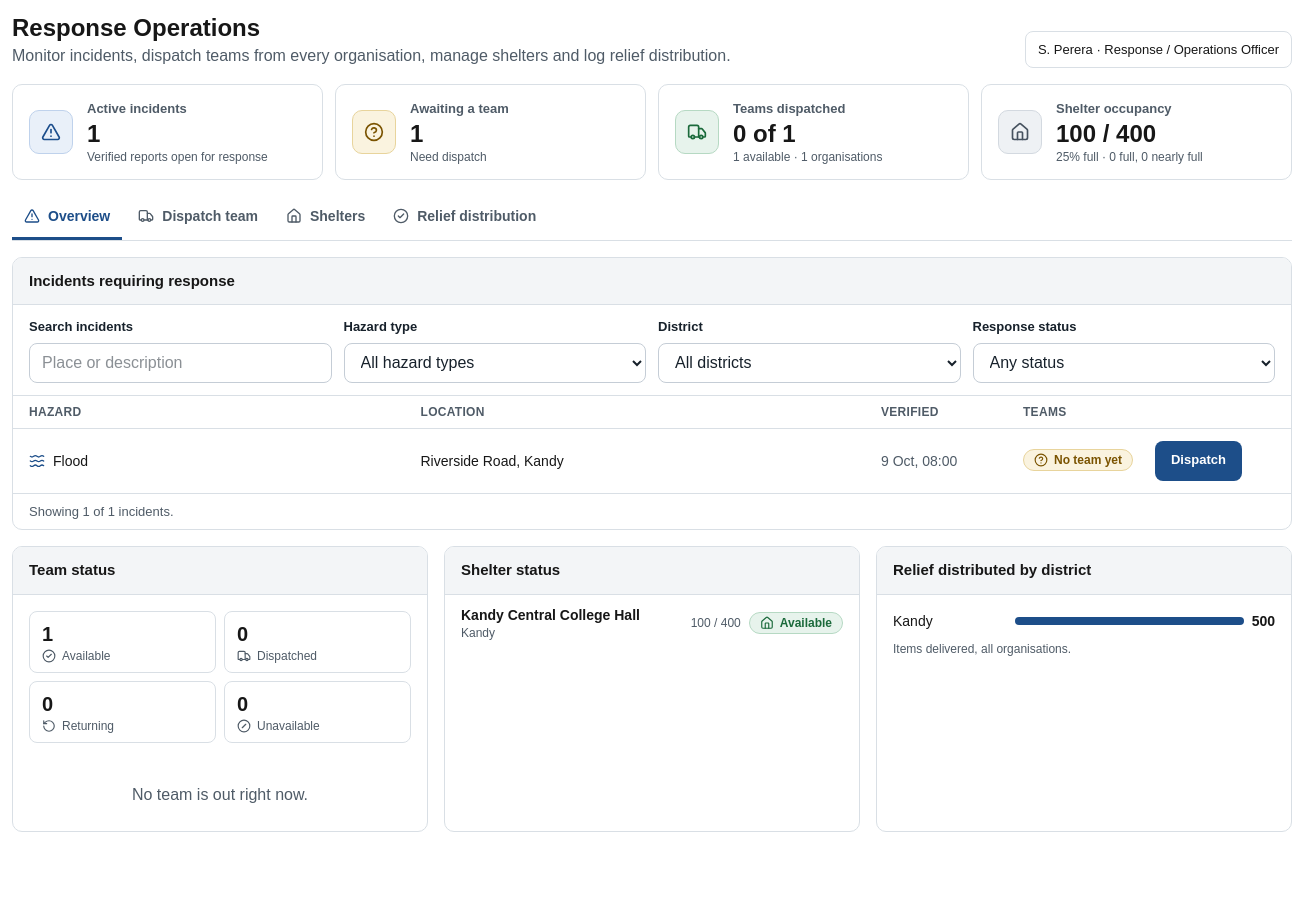
Test: Shelters tab › asks for a shelter before it will assign anyone
This screenshot has width=1292, height=912.
Expected: the text "Active incidents" is shown, top-left (87, 101), bottom-right (187, 116)
Click the tab "Shelters" at [326, 218], box top-left (274, 196), bottom-right (377, 240)
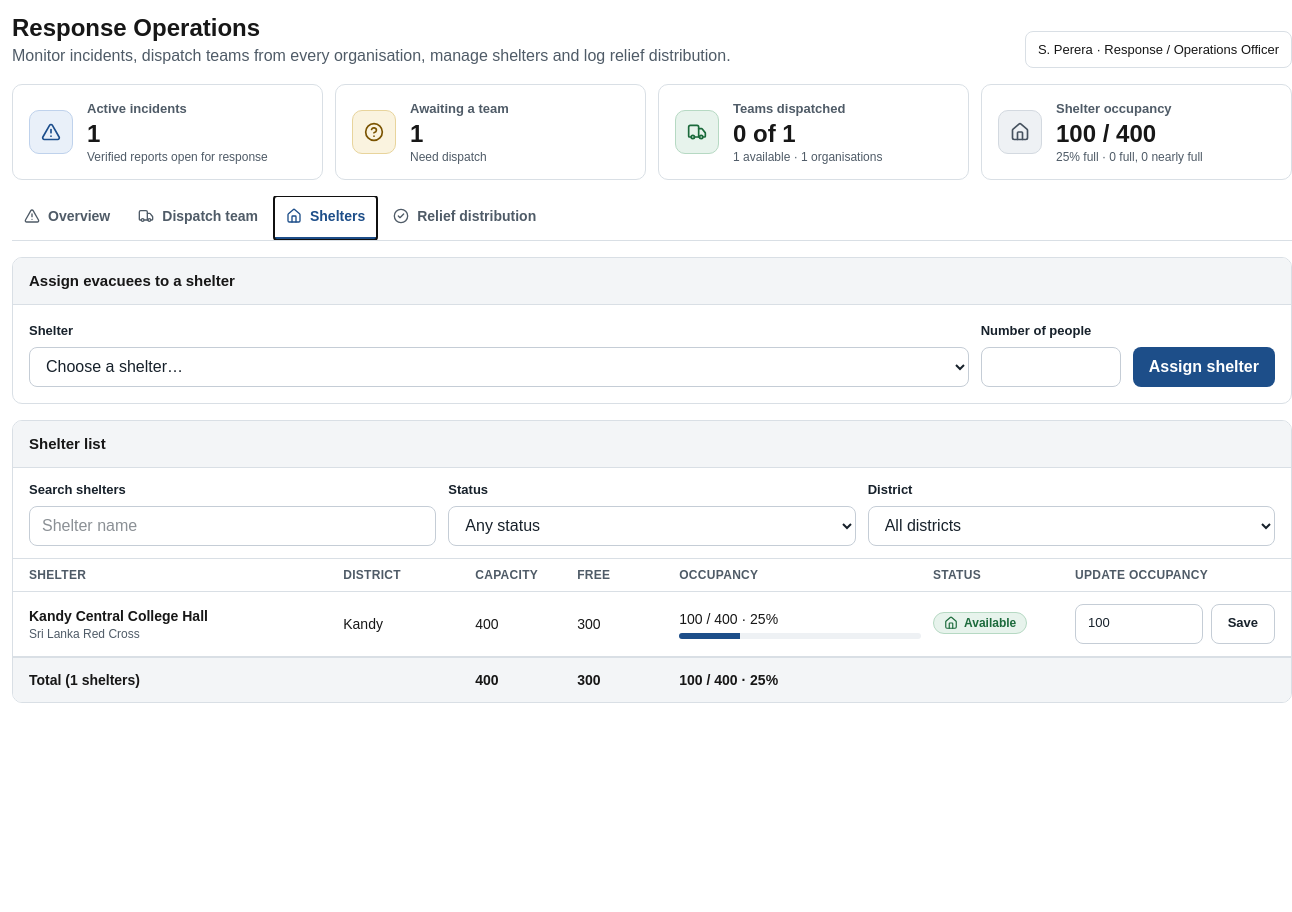
Click the button "Assign shelter" at [1204, 366], box top-left (1133, 346), bottom-right (1275, 386)
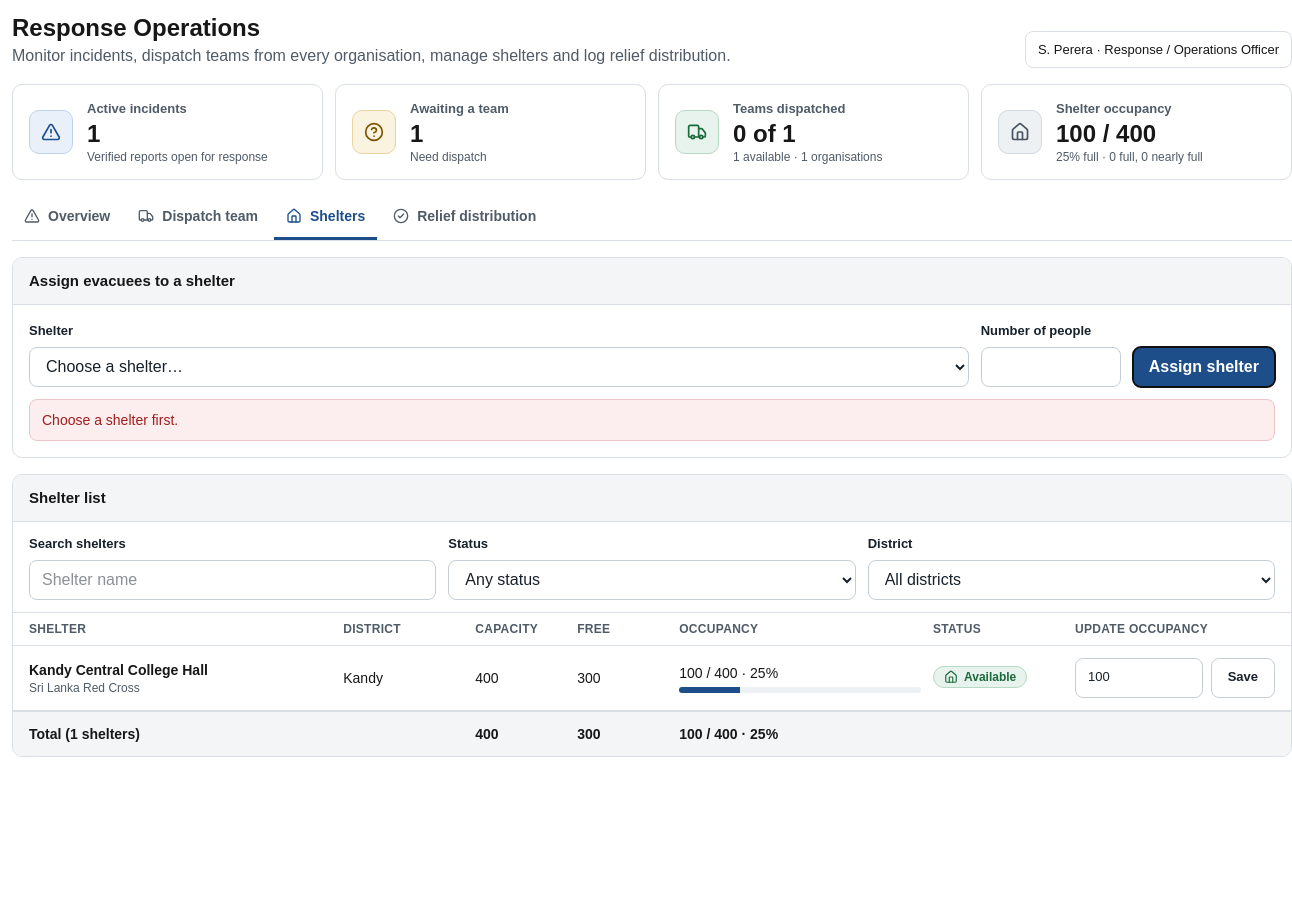
Now the text "Choose a shelter first." is shown, box top-left (42, 412), bottom-right (178, 428)
